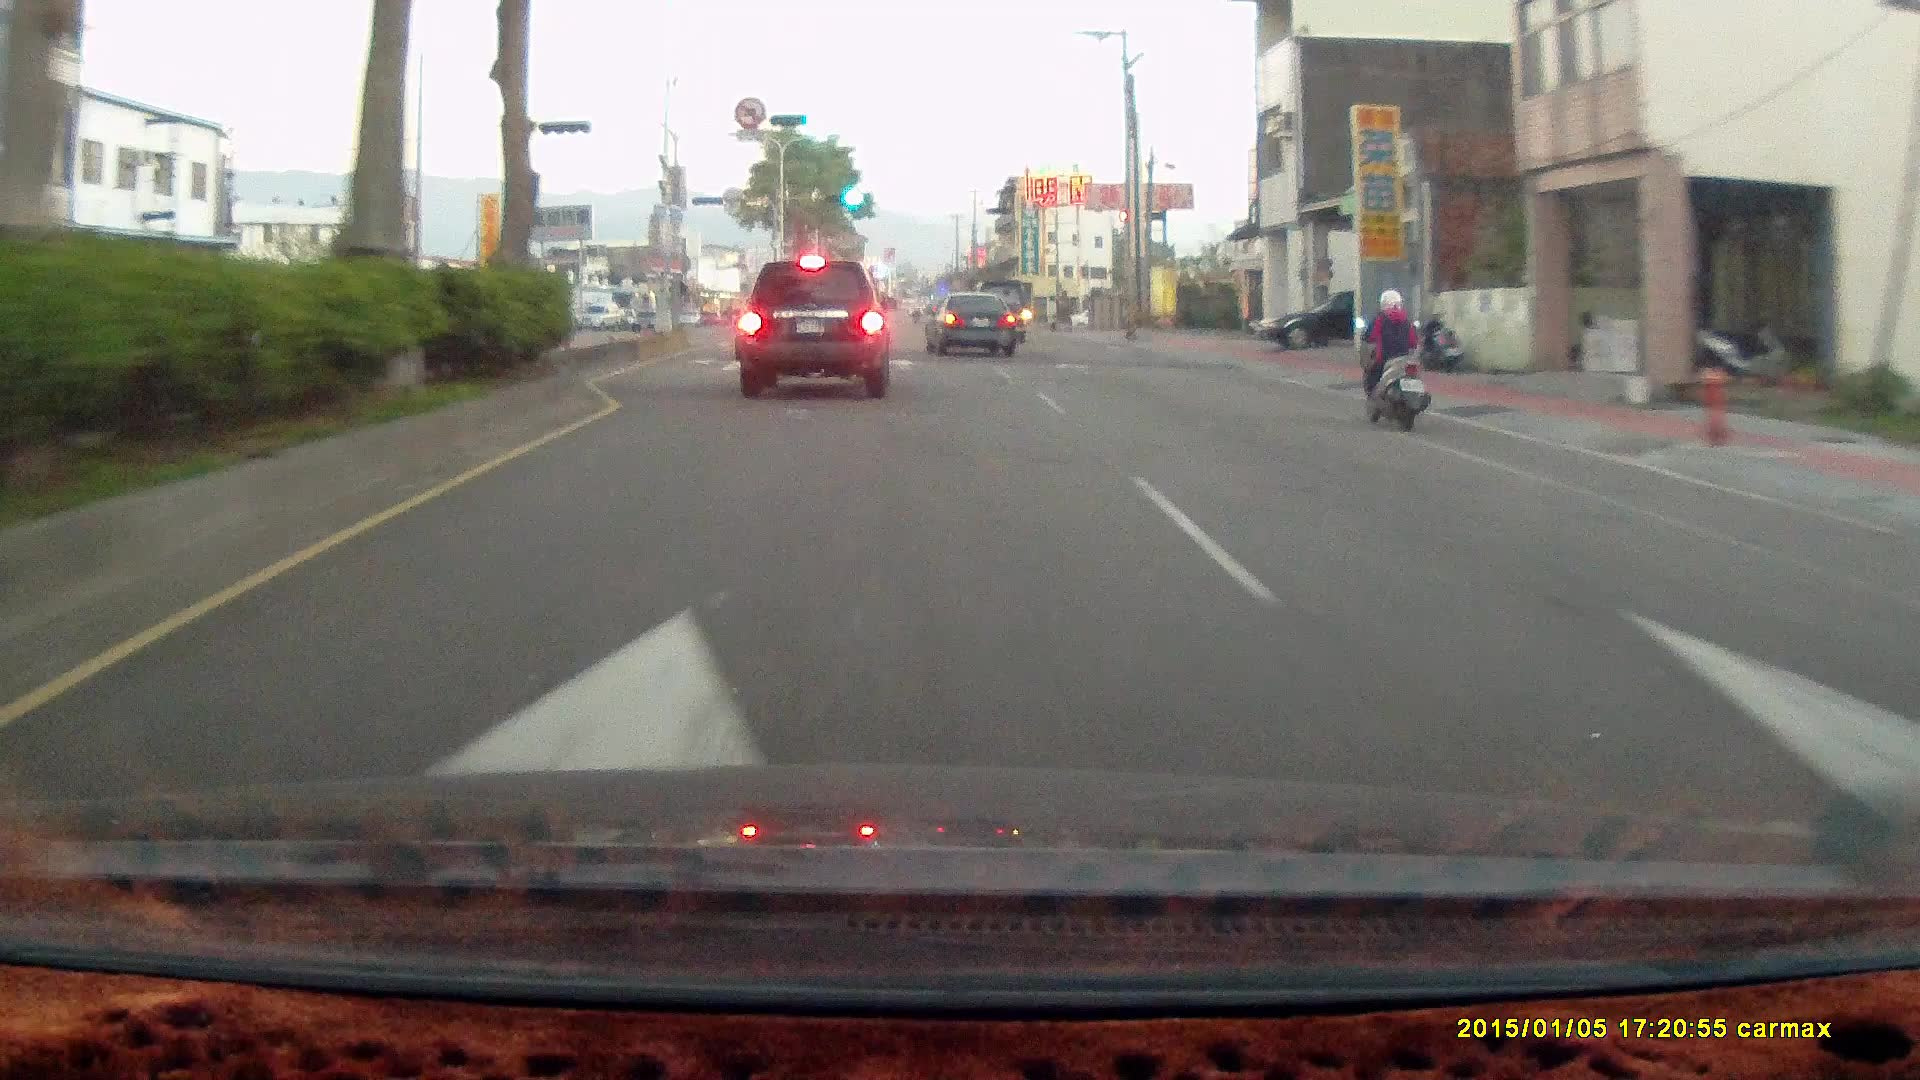rider: (1347, 279, 1443, 441), (1352, 286, 1432, 431)
vehicle: (729, 261, 889, 408), (738, 260, 895, 397), (1257, 289, 1435, 348), (1257, 290, 1363, 350), (926, 292, 1019, 358), (924, 291, 1015, 356), (578, 301, 622, 331)
